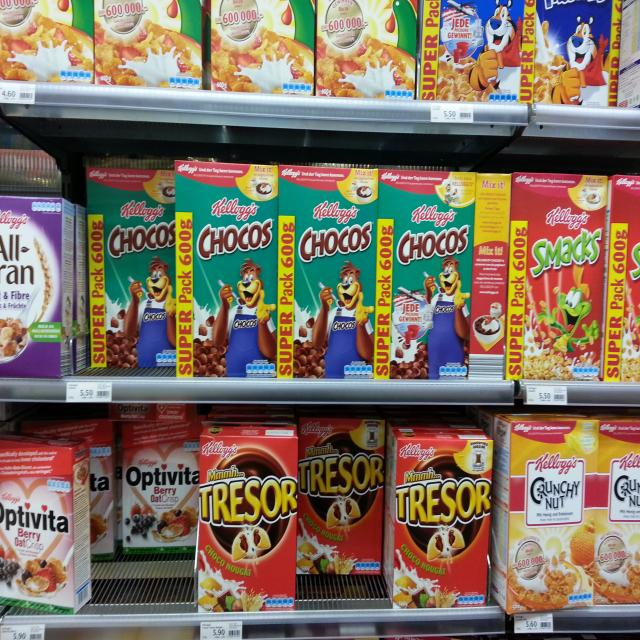Cereals: (374, 167, 478, 382), (174, 162, 278, 377), (505, 170, 606, 379), (279, 166, 377, 380), (496, 412, 599, 611), (386, 428, 494, 607), (199, 422, 297, 612), (86, 165, 175, 368), (0, 426, 93, 613), (298, 414, 387, 574), (0, 194, 75, 376), (421, 0, 536, 102), (120, 422, 200, 558), (211, 0, 314, 96), (95, 0, 203, 91), (316, 0, 416, 98), (534, 0, 621, 106), (594, 415, 640, 605), (0, 0, 93, 85), (604, 174, 640, 383)
